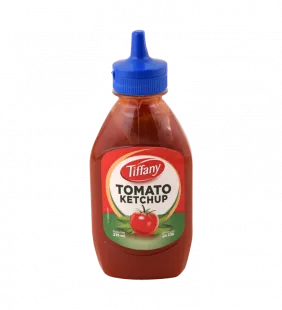Promotion: (84, 20, 203, 290)
